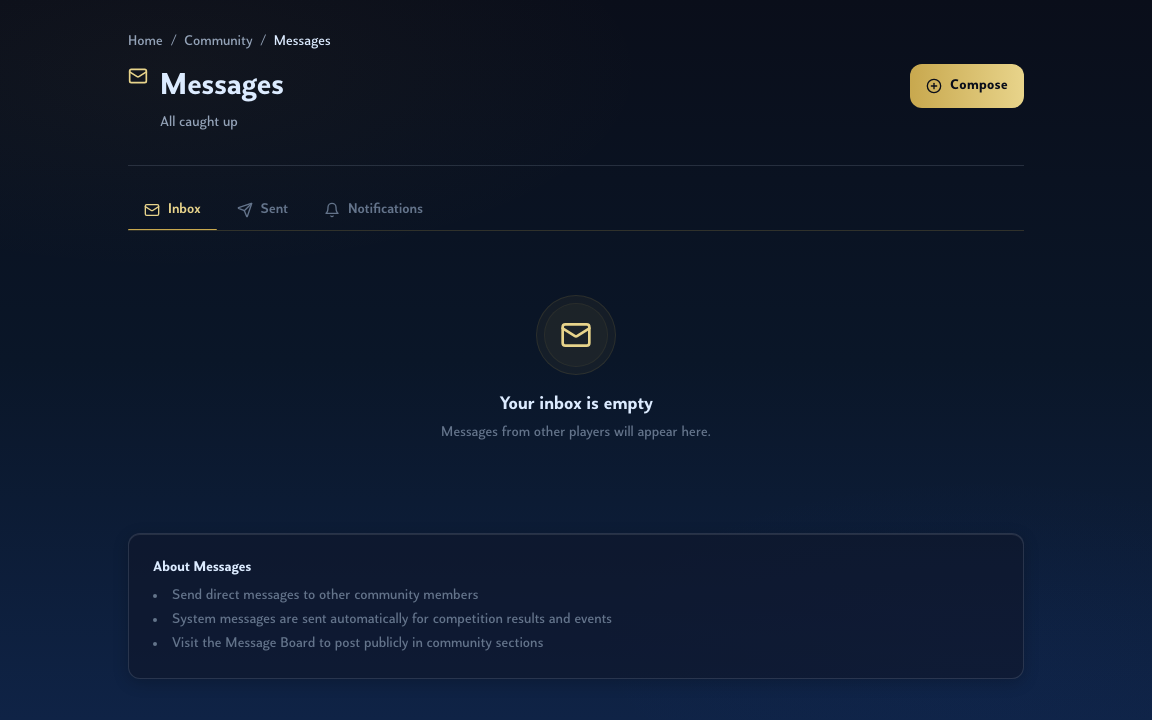
Test: MessagesPage — notifications four-state (Equoria-l22ki) › renders the honest empty state on a successful but empty notifications fetch
Click the tab with test id "tab-notifications": (374, 210) left=308, top=190, right=439, bottom=230
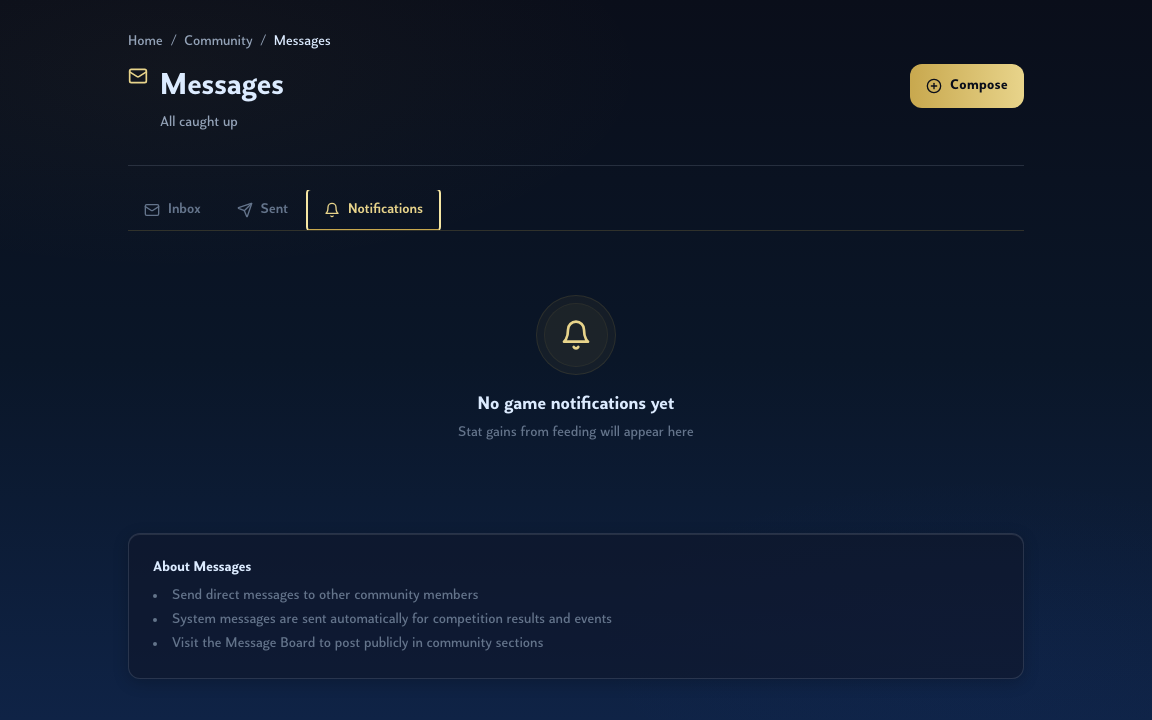
Expected: the heading "No game notifications yet" is shown, left=478, top=391, right=674, bottom=418
